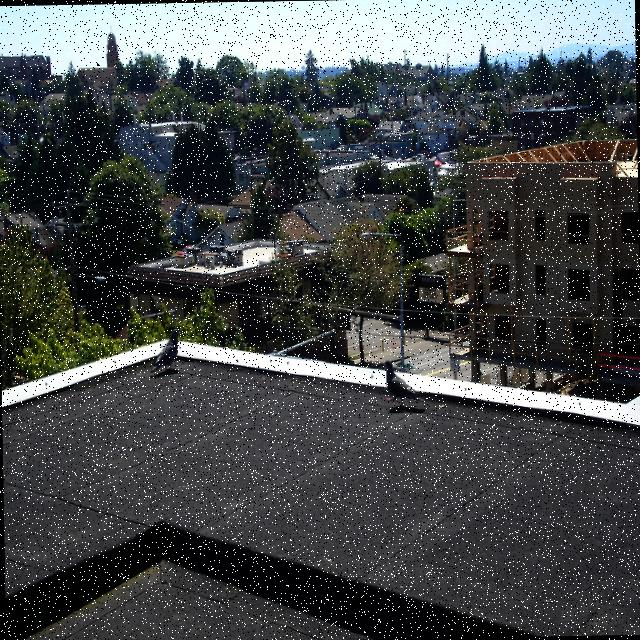bird: (382, 359, 424, 412), (148, 326, 182, 378)
